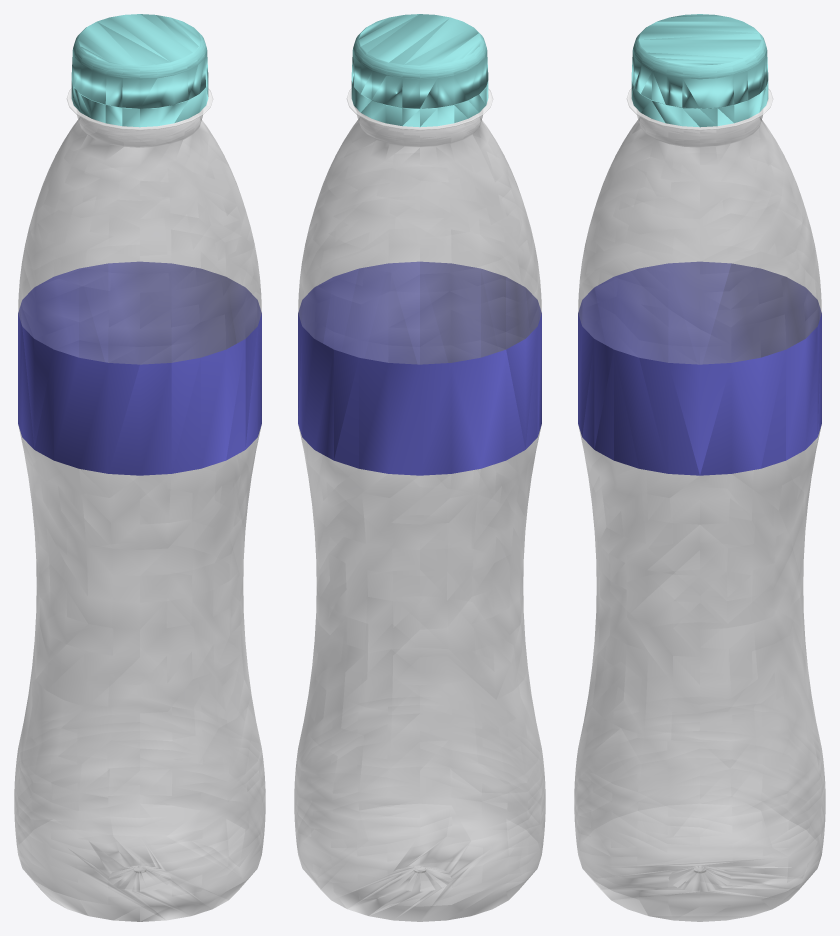
The picture shows the model from 3 angles, left to right: view 1: azimuth 30°, elevation 25°; view 2: azimuth 150°, elevation 25°; view 3: azimuth 270°, elevation 25°; orthographic projection.
Visible parts, largest first — view 1: mesh2/mesh2-geometry#mesh2-geometry; view 2: mesh2/mesh2-geometry#mesh2-geometry; view 3: mesh2/mesh2-geometry#mesh2-geometry.
Boxes of the visible parts, x1,y1,x2,y2 form: mesh2/mesh2-geometry#mesh2-geometry: (14,14,265,921); mesh2/mesh2-geometry#mesh2-geometry: (294,14,545,921); mesh2/mesh2-geometry#mesh2-geometry: (574,14,825,921).
Size of the model in its own units: 0.5151 by 1.9 by 0.5151.
